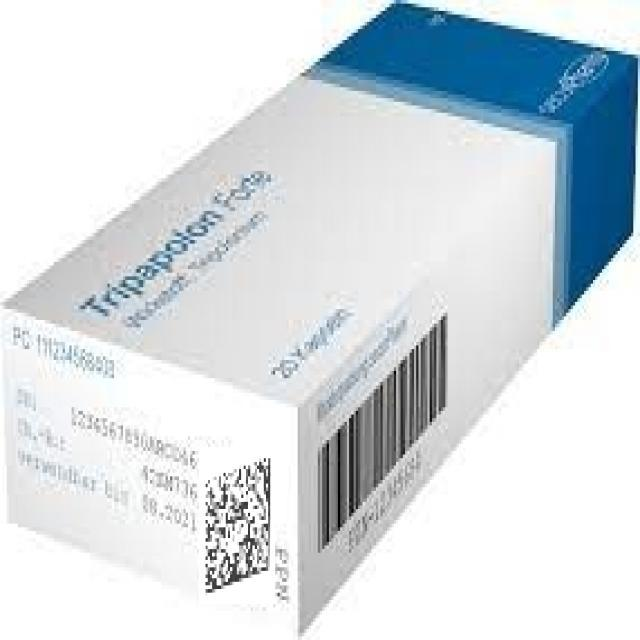Data-Matrix: (199, 447, 275, 604)
